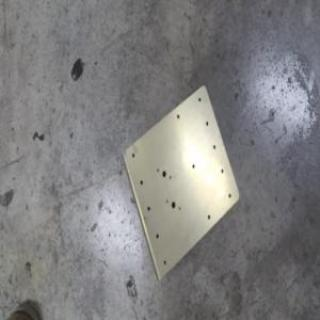MetalSheettrack_idkeyframe: (119, 82, 240, 283)
